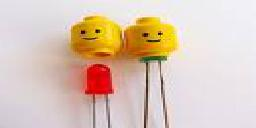LED: (83, 62, 116, 106)
